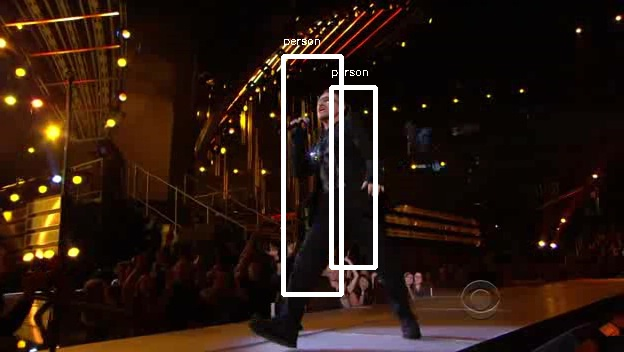person: (291, 88, 386, 256), (288, 88, 383, 256), (294, 88, 389, 256), (291, 85, 386, 253), (291, 91, 386, 259)
target_negative: (320, 77, 422, 342), (191, 221, 623, 272), (51, 165, 548, 204), (318, 10, 568, 51), (444, 288, 604, 349), (533, 263, 536, 287)
